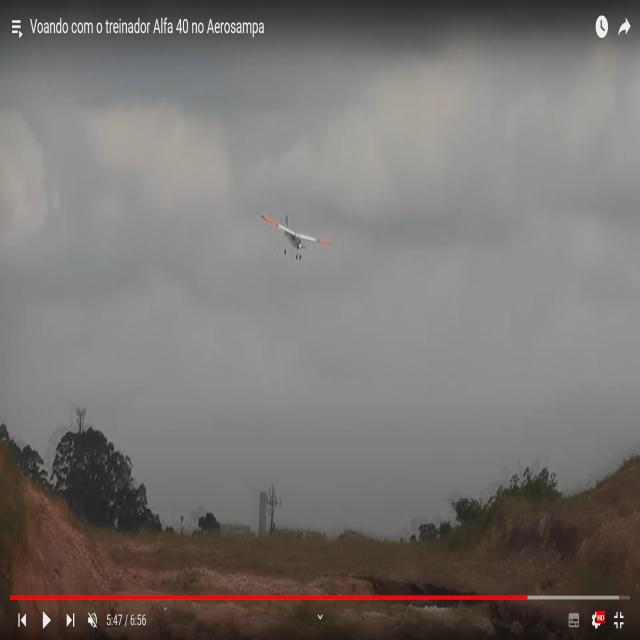iha: (291, 213, 297, 261)
